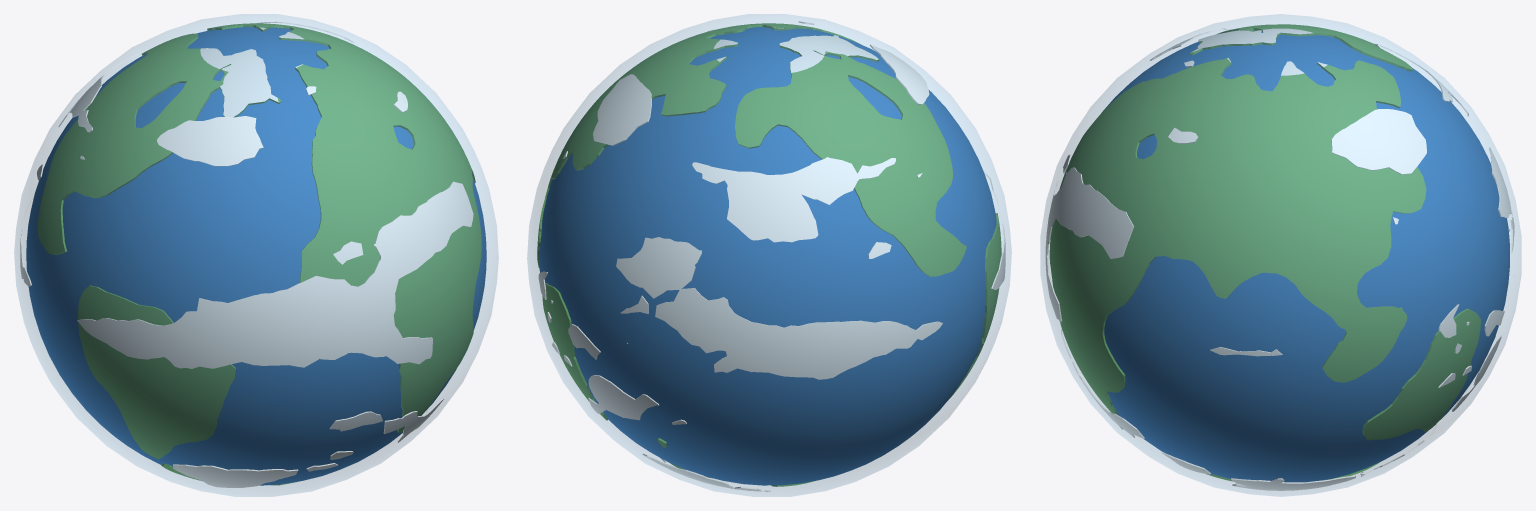
The model's file is earth.glb.
The picture shows the model from 3 angles, left to right: view 1: azimuth 30°, elevation 25°; view 2: azimuth 150°, elevation 25°; view 3: azimuth 270°, elevation 25°; orthographic projection.
Parts seen in each view (by area): view 1: atmosphere, earth_Ocean, earth_Land, clouds_Cloud, earth_Ice; view 2: atmosphere, earth_Ocean, earth_Land, clouds_Cloud, earth_Ice; view 3: atmosphere, earth_Land, earth_Ocean, clouds_Cloud, earth_Ice.
Boxes of the visible parts, x1,y1,x2,y2 form: atmosphere: (14, 14, 498, 496); earth_Ocean: (26, 27, 486, 485); earth_Land: (37, 23, 481, 485); clouds_Cloud: (20, 21, 487, 487); earth_Ice: (200, 27, 304, 117); atmosphere: (527, 14, 1011, 496); earth_Ocean: (539, 27, 996, 485); earth_Land: (537, 23, 1001, 486); clouds_Cloud: (538, 21, 1005, 491); earth_Ice: (714, 27, 878, 72); atmosphere: (1040, 14, 1521, 496); earth_Land: (1049, 24, 1480, 481); earth_Ocean: (1102, 30, 1509, 482); clouds_Cloud: (1045, 28, 1514, 490); earth_Ice: (1191, 28, 1327, 481).
Size of the model in its own units: 6.3 by 6.3 by 6.3.
